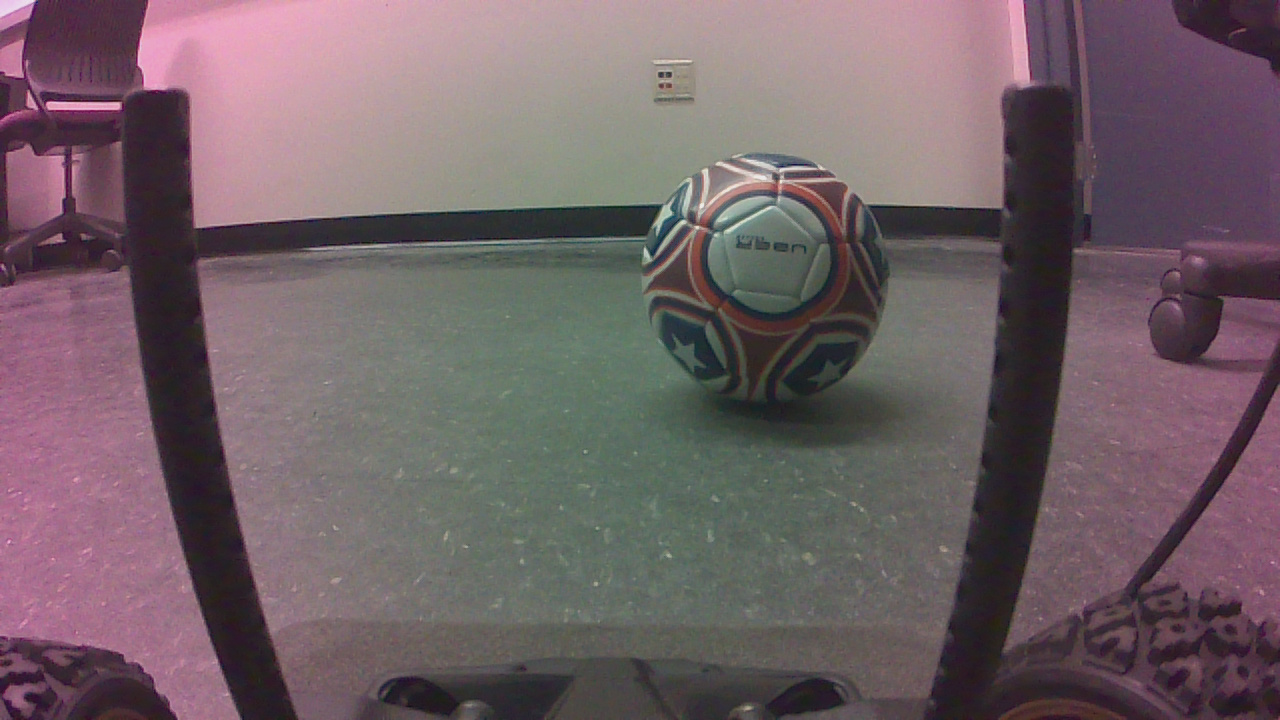ball: (649, 156, 896, 411)
